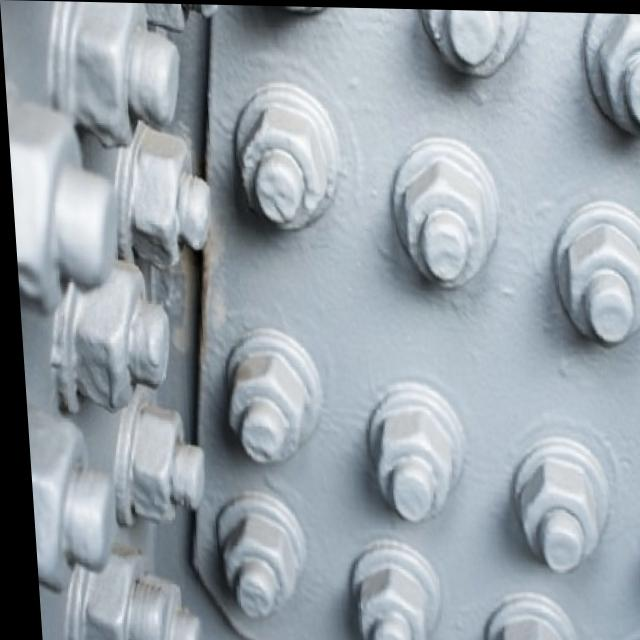Regular bolt: (377, 139, 503, 286), (492, 428, 614, 578), (350, 376, 463, 524), (207, 333, 326, 468), (230, 95, 339, 233), (540, 200, 640, 348), (197, 490, 306, 623), (333, 542, 437, 640)
